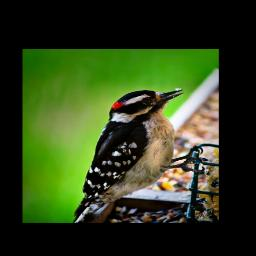Woodpecker: (73, 88, 208, 223)
